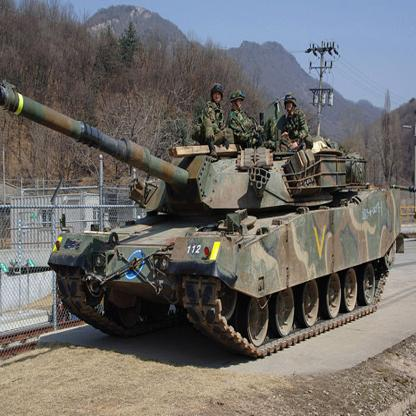Tank: (1, 81, 400, 357)
